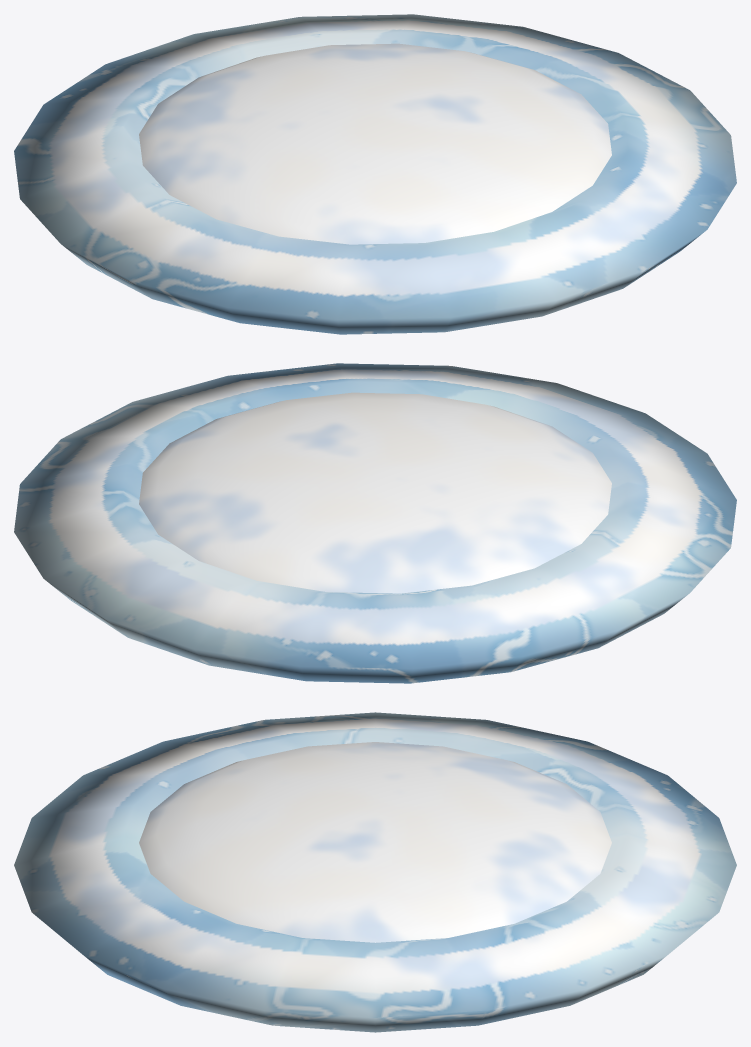
File: ice_hole.glb
The picture shows the model from 3 angles, top to bottom: view 1: azimuth 30°, elevation 25°; view 2: azimuth 150°, elevation 25°; view 3: azimuth 270°, elevation 25°; orthographic projection.
Visible parts, largest first — view 1: Hole, Cap; view 2: Hole, Cap; view 3: Hole, Cap.
Part boxes in pixels (box(x1,y1,x2,y2)): Hole: box(14, 14, 736, 334); Cap: box(139, 43, 611, 244); Hole: box(14, 363, 736, 683); Cap: box(139, 392, 611, 593); Hole: box(14, 712, 736, 1032); Cap: box(139, 742, 611, 942).
Bounding box in the file's own units: 1.2 × 0.1848 × 1.2.
1 material, 1 textured.
